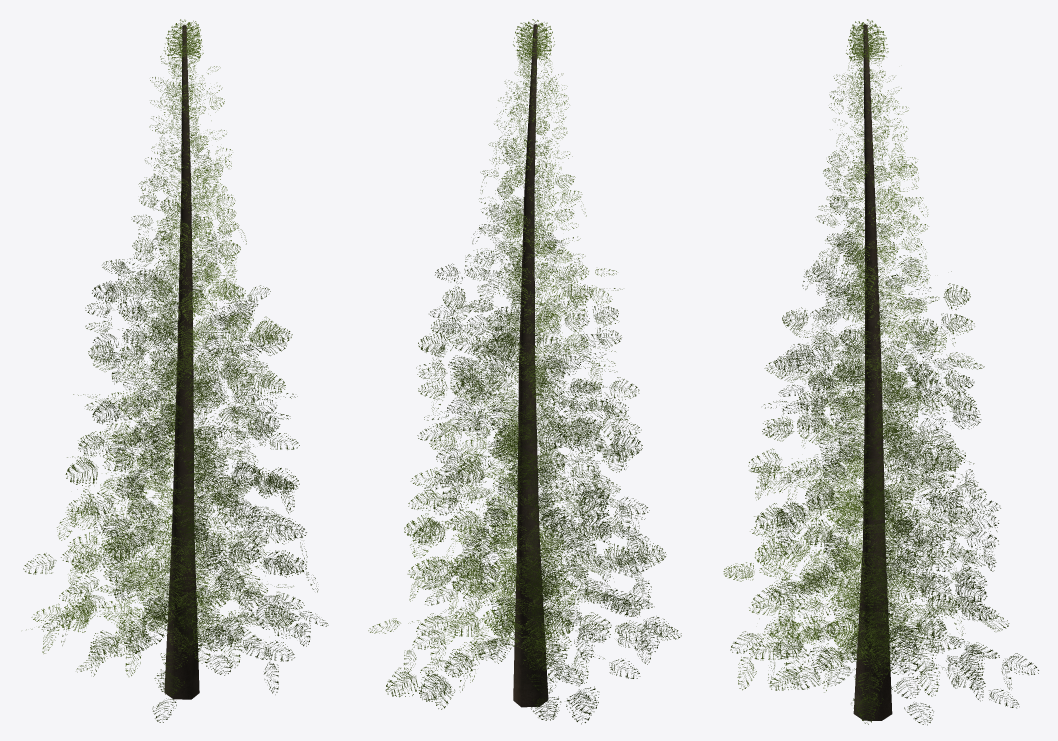
The model's file is larch_sparse_v03_LOD2.fbx.
The picture shows the model from 3 angles, left to right: view 1: azimuth 30°, elevation 25°; view 2: azimuth 150°, elevation 25°; view 3: azimuth 270°, elevation 25°; orthographic projection. The views are drawn at different scales.
Visible parts, largest first — view 1: larch_sparse_v03_LOD2; view 2: larch_sparse_v03_LOD2; view 3: larch_sparse_v03_LOD2.
Boxes of the visible parts, bbox=[...] form: larch_sparse_v03_LOD2: bbox=[23, 19, 328, 722]; larch_sparse_v03_LOD2: bbox=[368, 19, 681, 724]; larch_sparse_v03_LOD2: bbox=[723, 19, 1038, 725].
Size of the model in its own units: 887 by 866 by 2021.
2 materials, 2 textured.
